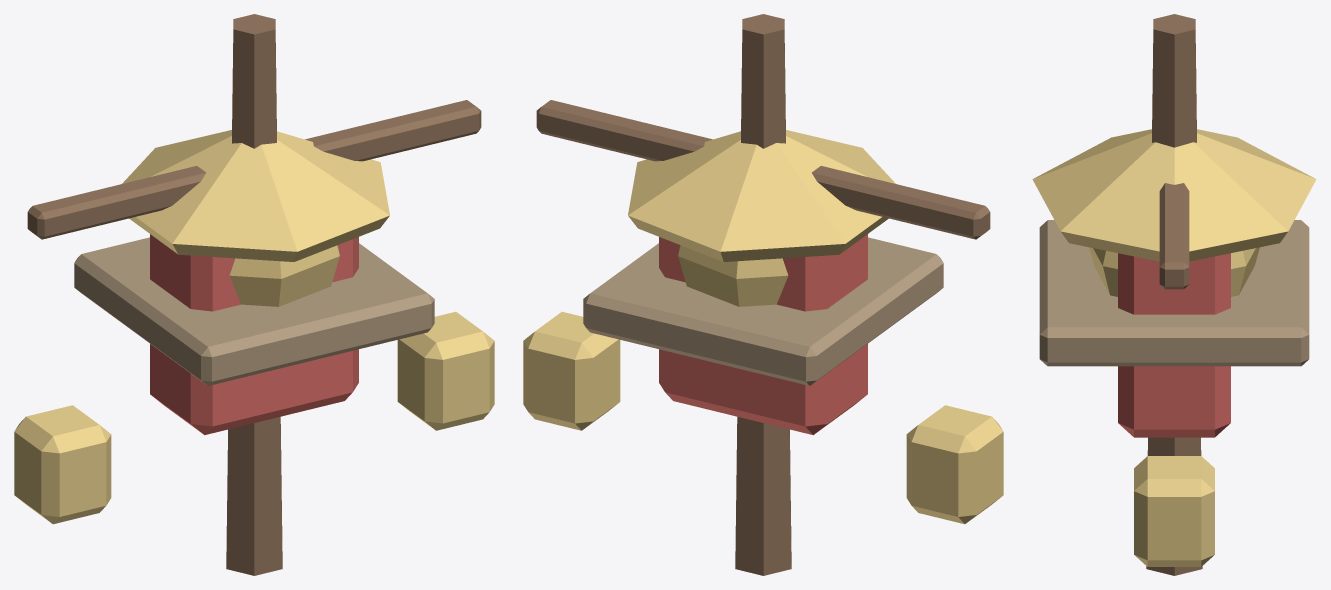
Rendered from town_scarecrow.glb.
The picture shows the model from 3 angles, left to right: view 1: azimuth 30°, elevation 25°; view 2: azimuth 150°, elevation 25°; view 3: azimuth 270°, elevation 25°; orthographic projection.
Parts seen in each view (by area): view 1: world; view 2: world; view 3: world.
Part boxes in pixels (x1,y1,x2,y2): world: [14, 14, 494, 575]; world: [523, 14, 1003, 575]; world: [1032, 14, 1316, 575].
Size of the model in its own units: 1.76 by 2 by 0.9573.
